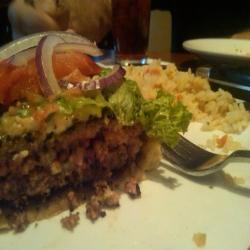burger: (1, 29, 163, 231)
rice: (133, 60, 249, 145)
